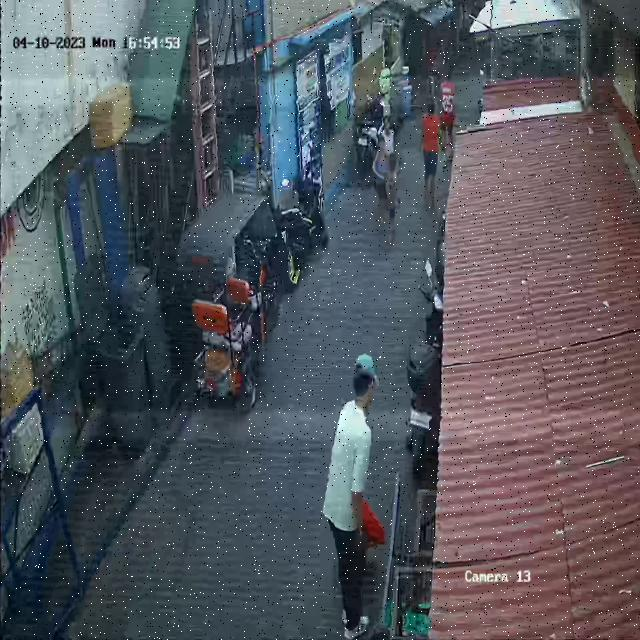human: (324, 353, 386, 638)
